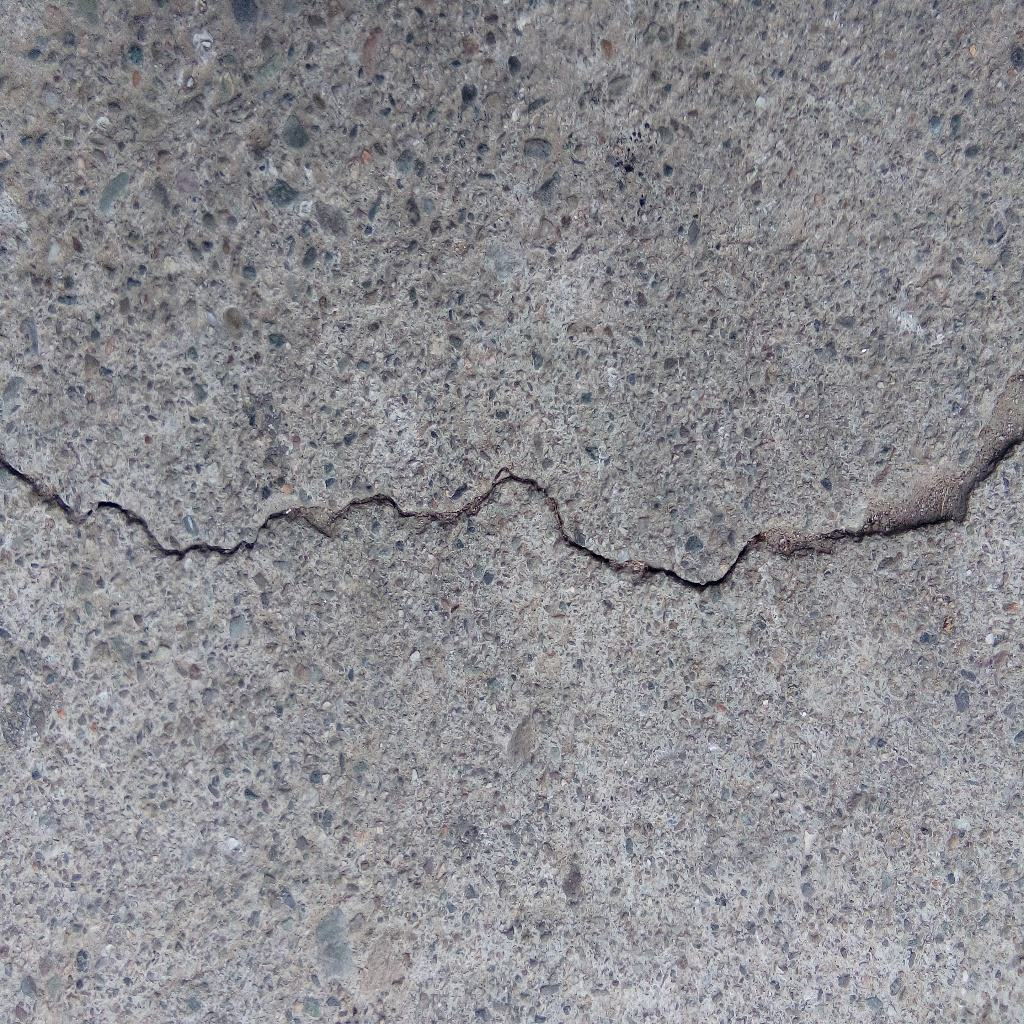Crack: (1, 375, 1024, 595)
